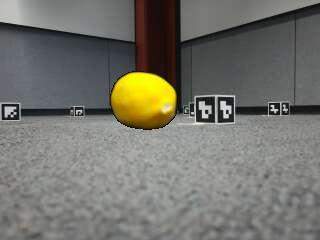lemon: (111, 72, 176, 129)
